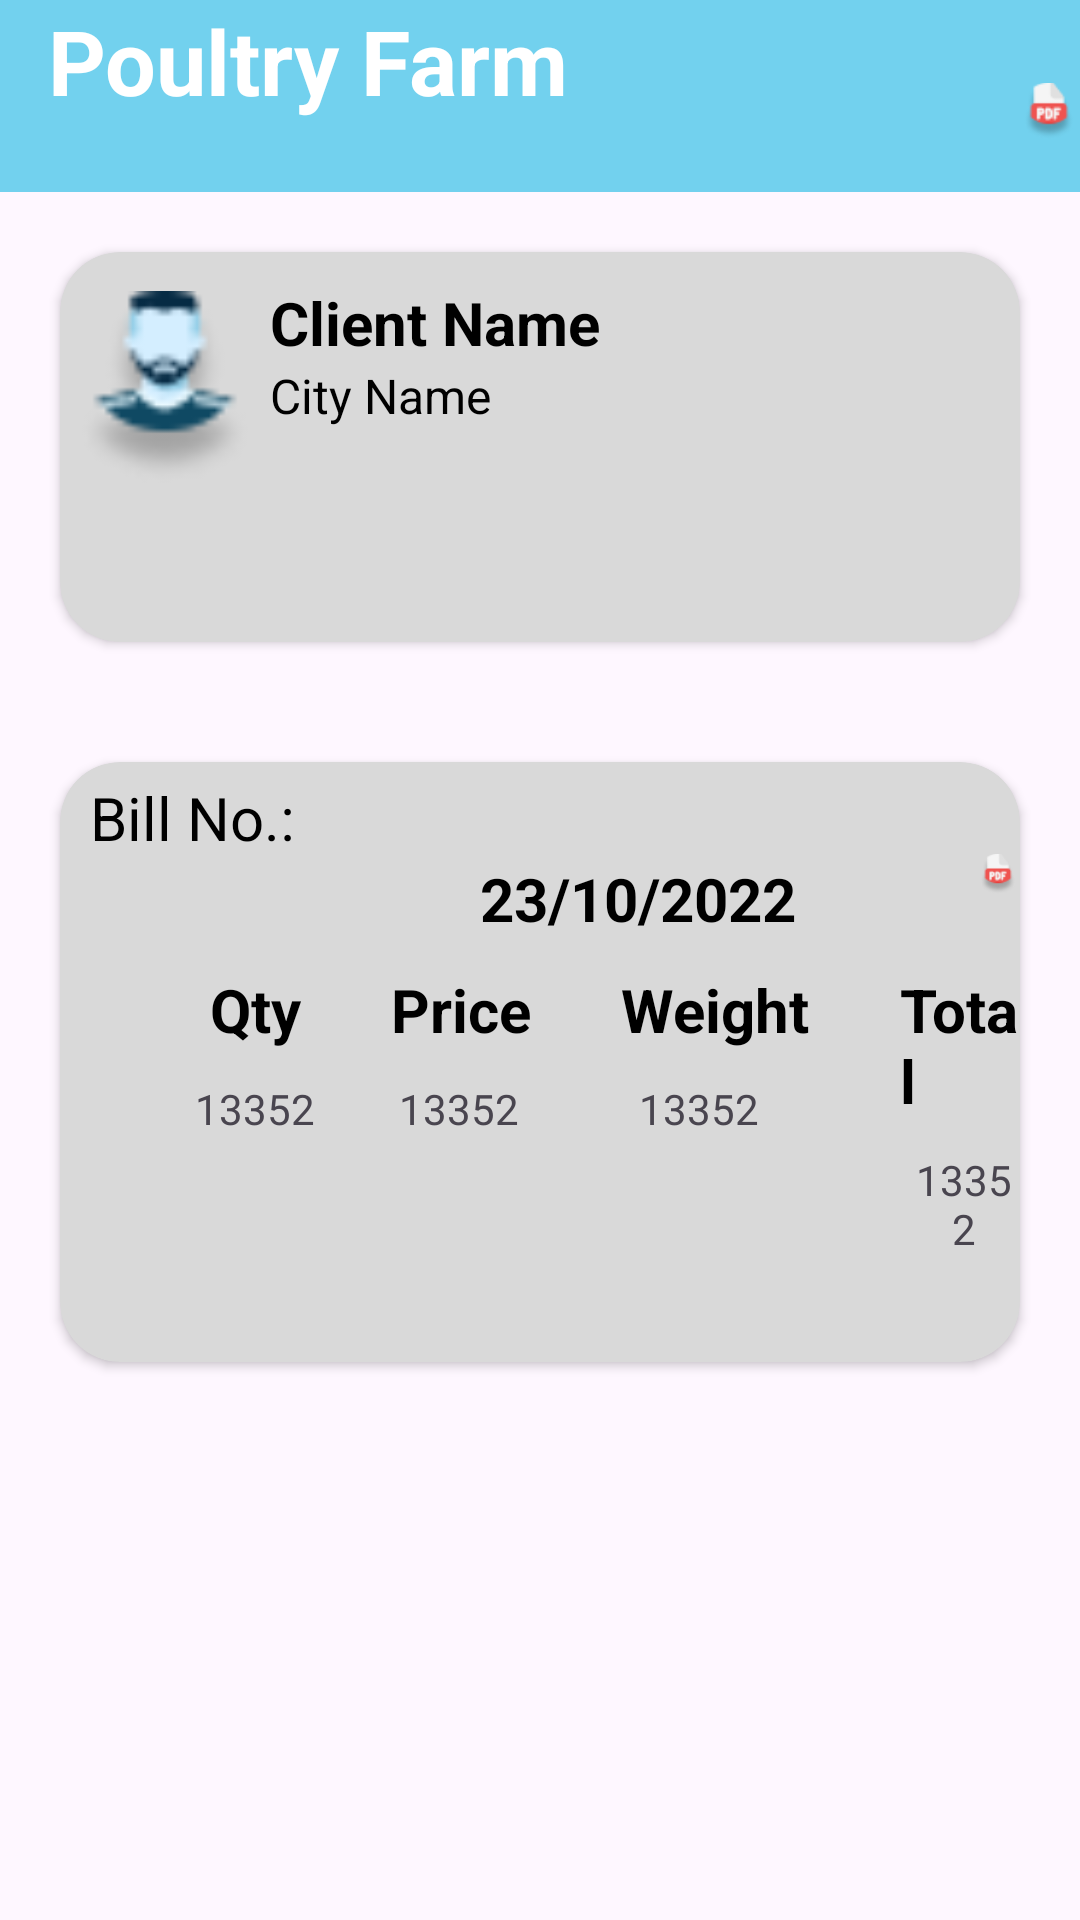

Where to tap for icons on this 1080w x 1920h app screen, as point (x, y):
person: point (164, 376)
